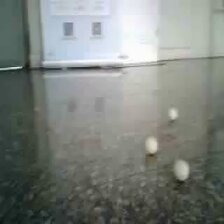w: (173, 160, 189, 180), (144, 136, 156, 153), (168, 107, 177, 118)
